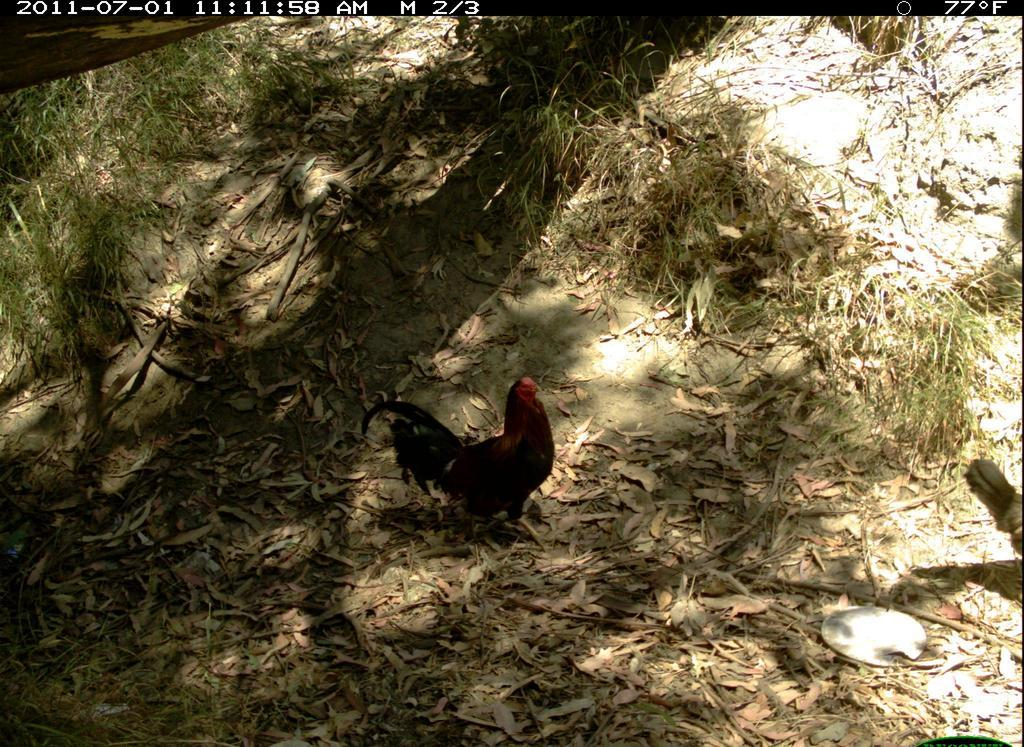bird: (362, 372, 567, 554), (961, 453, 1024, 561)
